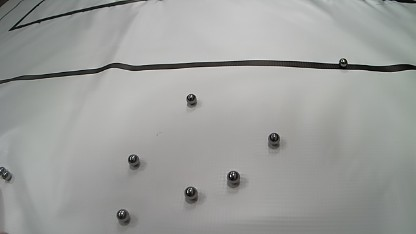ironball: (226, 170, 240, 184), (116, 208, 130, 222), (184, 186, 197, 199), (127, 154, 140, 167), (268, 132, 280, 145), (186, 93, 196, 105), (1, 170, 11, 181), (338, 58, 347, 67), (0, 167, 6, 178)
